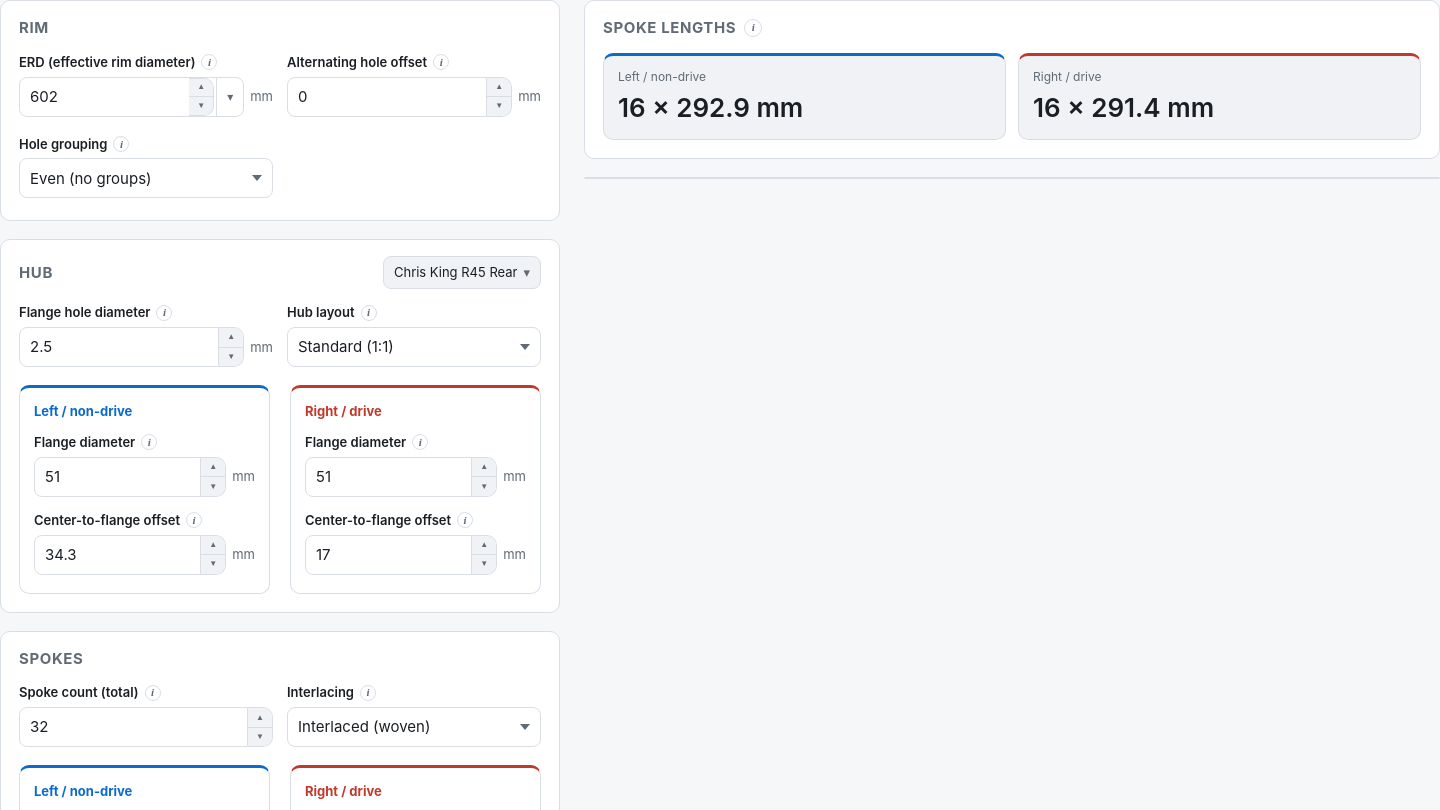
Test: Wheel building page › uses info popovers rather than under-field explanations
Check: the text "each hole nudged" is not shown
What coordinates should you click on to do the following:
click the button named "About: Alternating hole offset"
I would click on:
 (441, 62)
Its box is [433,54,449,70].
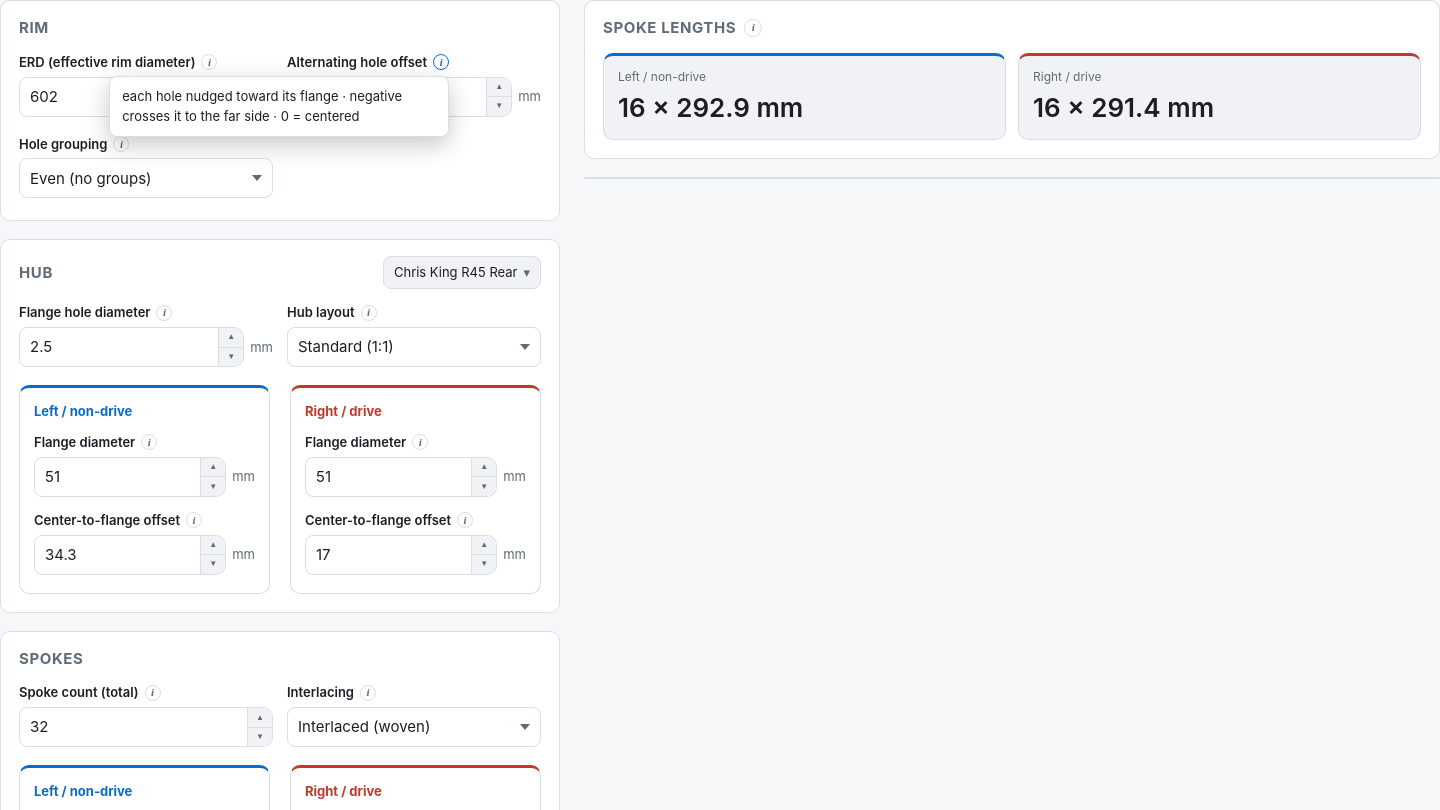
Check: the tooltip "each hole nudged" is shown, box [122,88,402,124]
